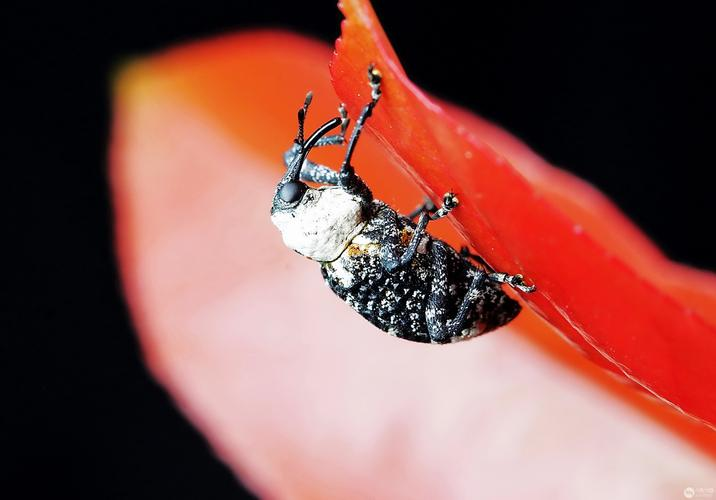Curculionidae: (269, 63, 537, 346)
